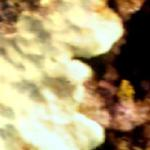alive: (5, 4, 146, 149)
